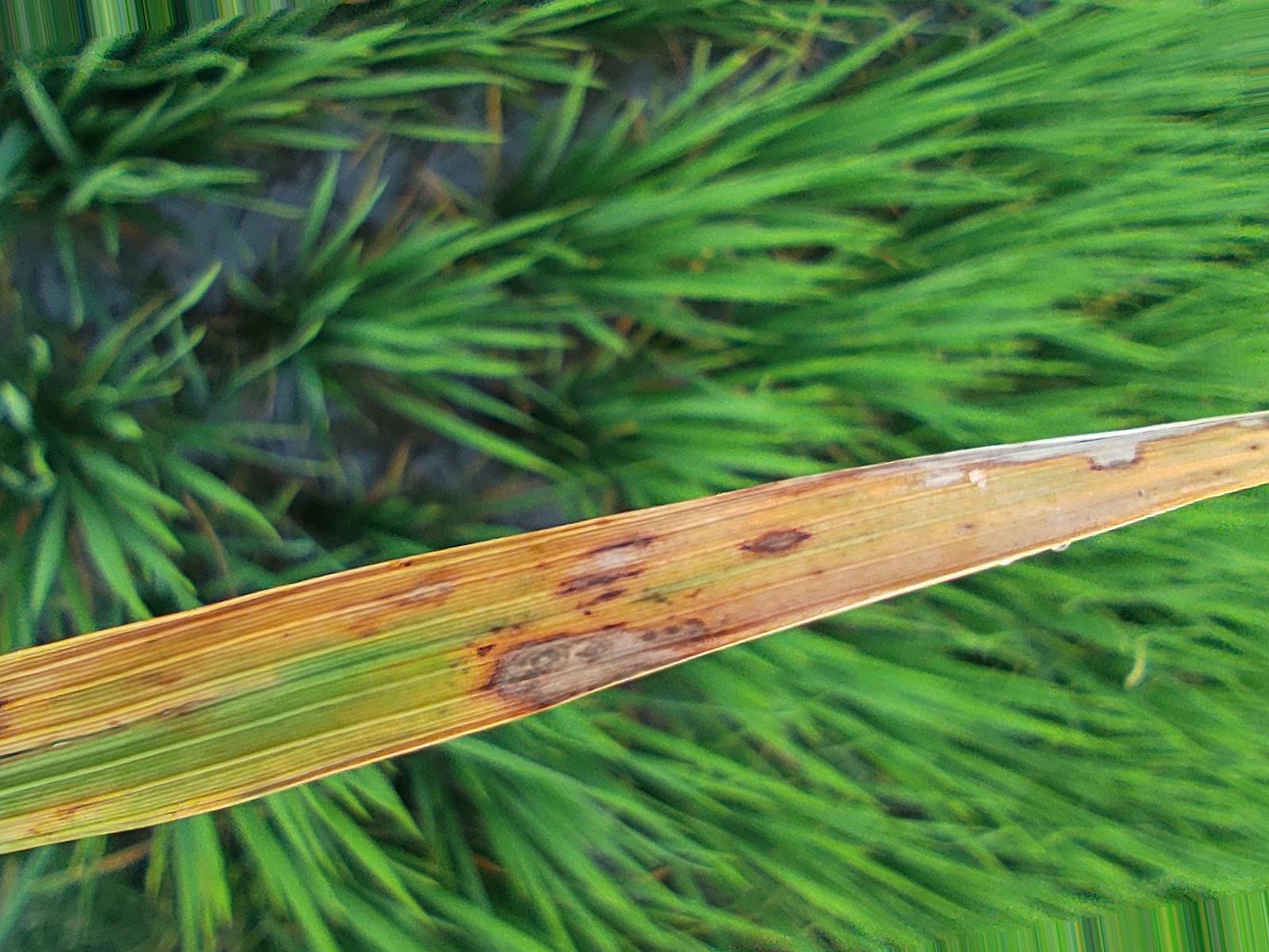LEAF: (0, 412, 1268, 853)
NBS: (575, 587, 629, 610), (627, 585, 675, 605), (476, 642, 498, 658), (685, 586, 703, 599), (487, 625, 506, 636), (809, 568, 825, 577), (447, 661, 460, 669), (962, 523, 975, 531), (507, 623, 521, 630), (464, 641, 476, 649), (582, 609, 593, 616), (283, 631, 291, 640)
